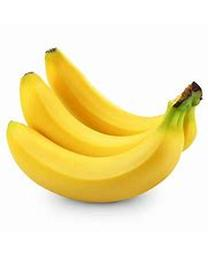banana: (5, 47, 204, 203)
